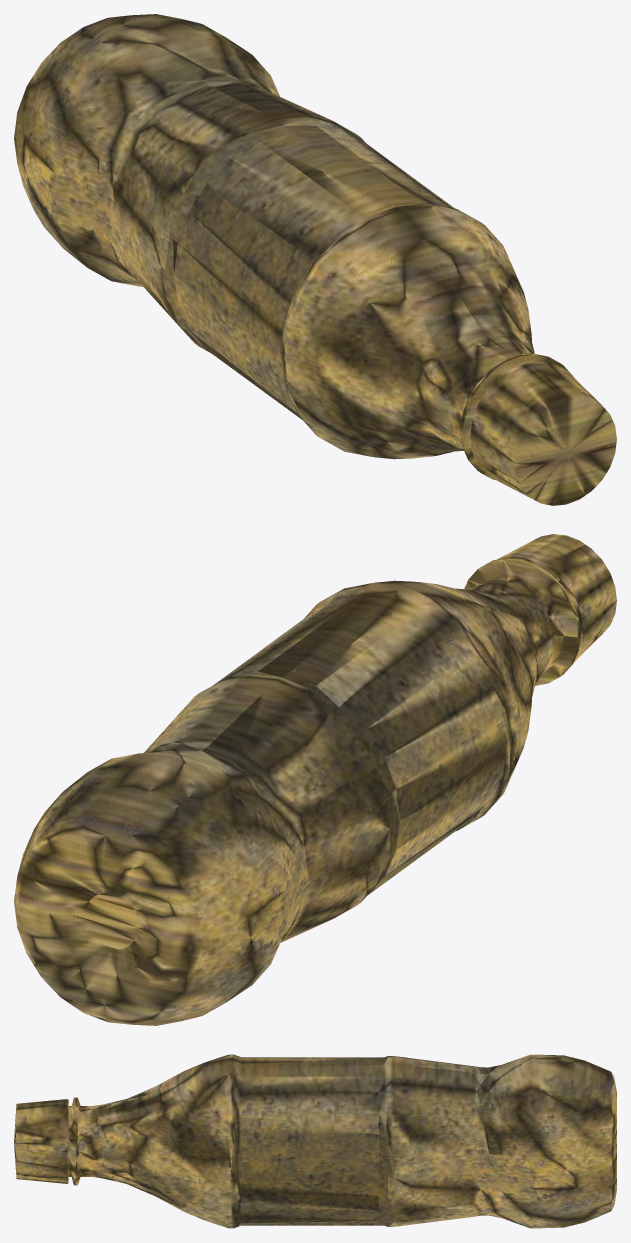
Rendered from model_align.obj.
3 views of the same model, one above another, from view 1: azimuth 30°, elevation 25°; view 2: azimuth 150°, elevation 25°; view 3: azimuth 270°, elevation 25° (orthographic). The views are drawn at different scales.
Bounding box in the file's own units: 0.0791 × 0.0791 × 0.2729.
